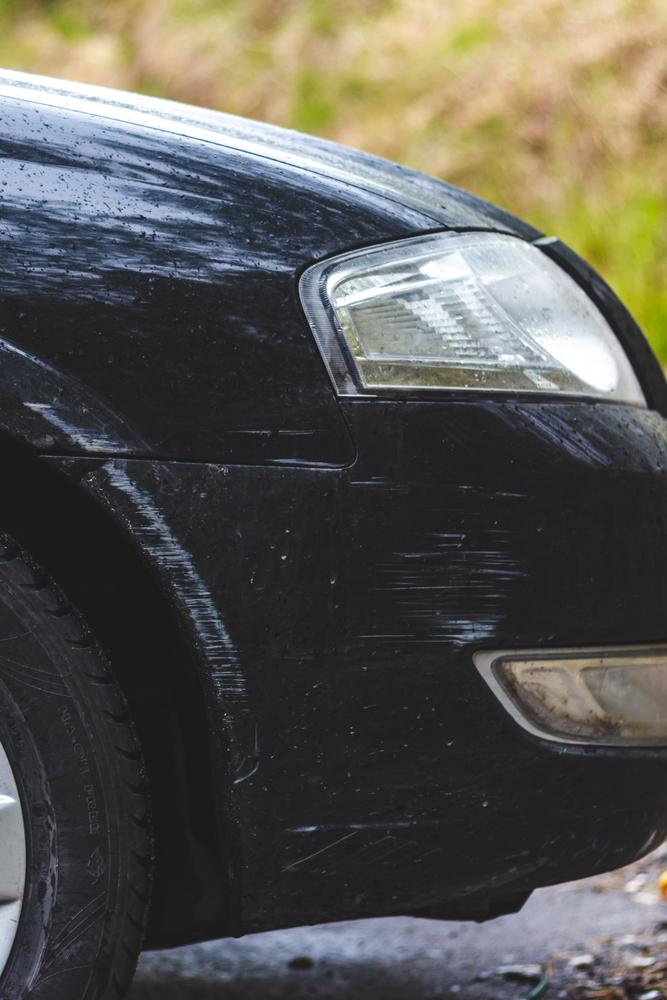scratch: (76, 460, 254, 731), (369, 481, 539, 661), (14, 399, 128, 453)
